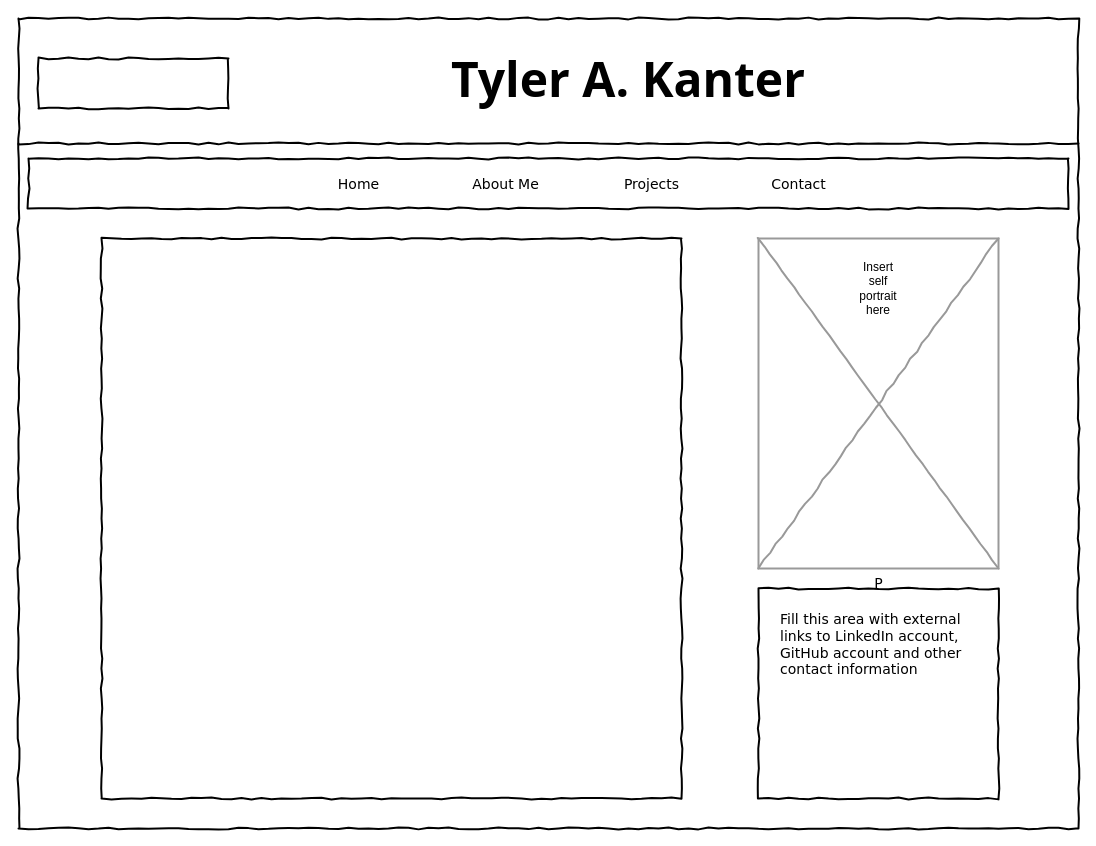
Image size: 1096x846. Some labels were removed from this diagram. The shapes that lost their labels are listed below. From the top down, each one's box as (x1, y1, x2, y2) in pixels, then its label:
(37, 57, 229, 109): Logo
(100, 237, 682, 799): Fill in this area with the About Me, and projects information
